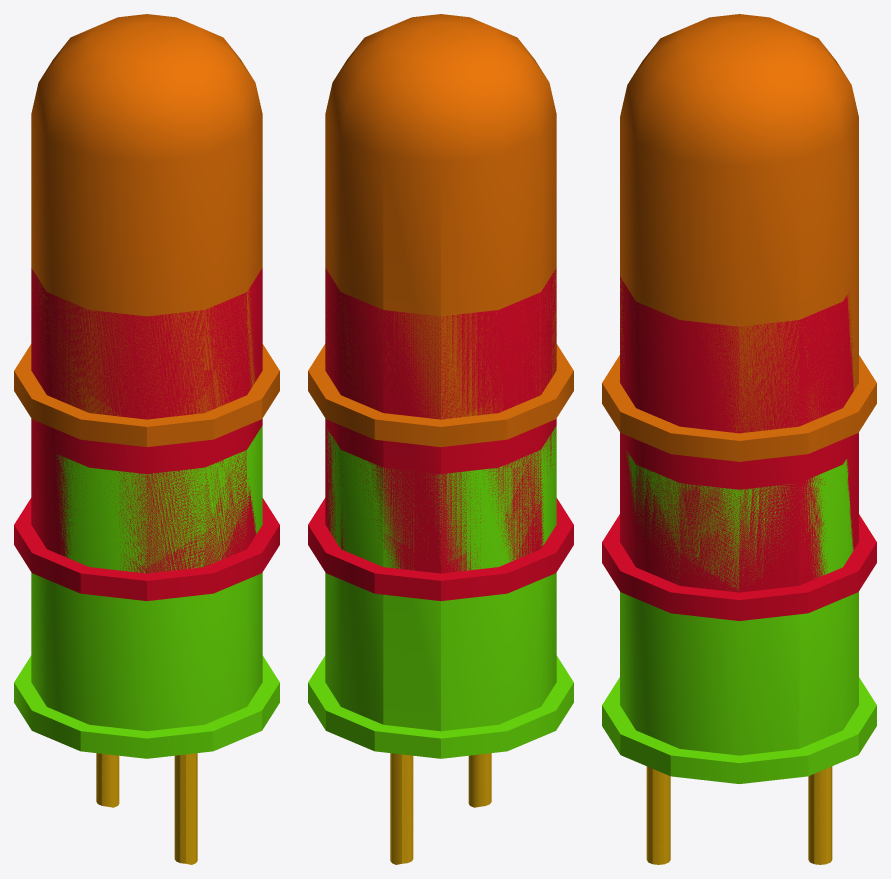
Rendered from leds.fbx.
The picture shows the model from 3 angles, left to right: view 1: azimuth 30°, elevation 25°; view 2: azimuth 150°, elevation 25°; view 3: azimuth 270°, elevation 25°; orthographic projection. The views are drawn at different scales.
Parts seen in each view (by area): view 1: led 3, led 1, led 2; view 2: led 3, led 1, led 2; view 3: led 3, led 2, led 1.
Part boxes in pixels (left/top/right/bottom): led 3: left=14, top=14, right=279, bottom=864; led 1: left=14, top=425, right=279, bottom=864; led 2: left=14, top=268, right=279, bottom=864; led 3: left=308, top=14, right=573, bottom=864; led 1: left=308, top=425, right=573, bottom=864; led 2: left=308, top=268, right=573, bottom=863; led 3: left=602, top=14, right=876, bottom=864; led 2: left=602, top=277, right=876, bottom=864; led 1: left=602, top=450, right=876, bottom=864.
Size of the model in its own units: 11.5 by 38.17 by 11.5.
